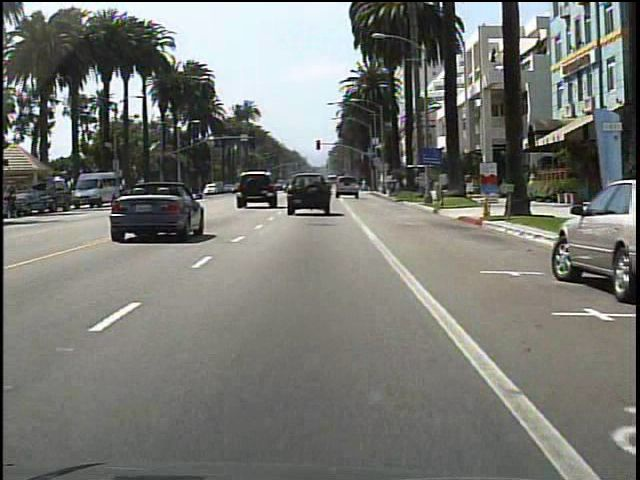person: (5, 177, 24, 223)
